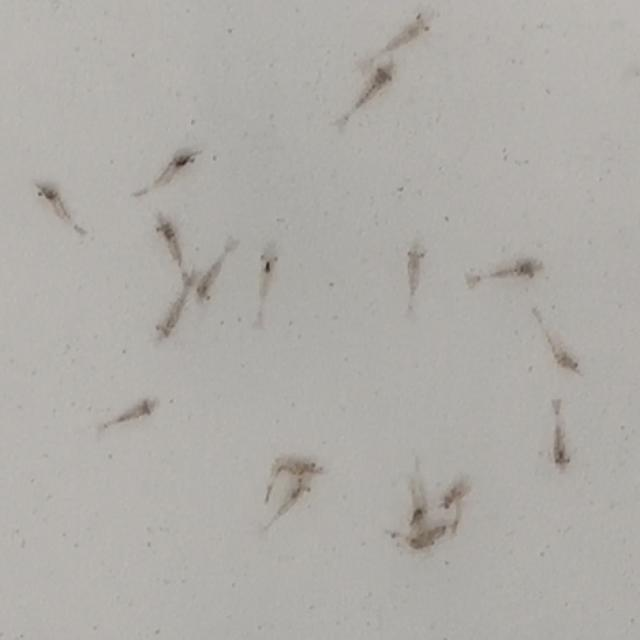shrimp-seed: (540, 336, 582, 382), (147, 307, 185, 353), (124, 389, 164, 432), (397, 238, 431, 288), (502, 247, 544, 286), (542, 433, 576, 471), (363, 62, 398, 96), (442, 478, 478, 511), (170, 144, 204, 178), (152, 215, 187, 248), (399, 10, 436, 41), (278, 453, 322, 478), (194, 268, 222, 307), (403, 533, 448, 557), (399, 497, 428, 529), (285, 478, 313, 509), (33, 182, 63, 210), (258, 245, 280, 282)
